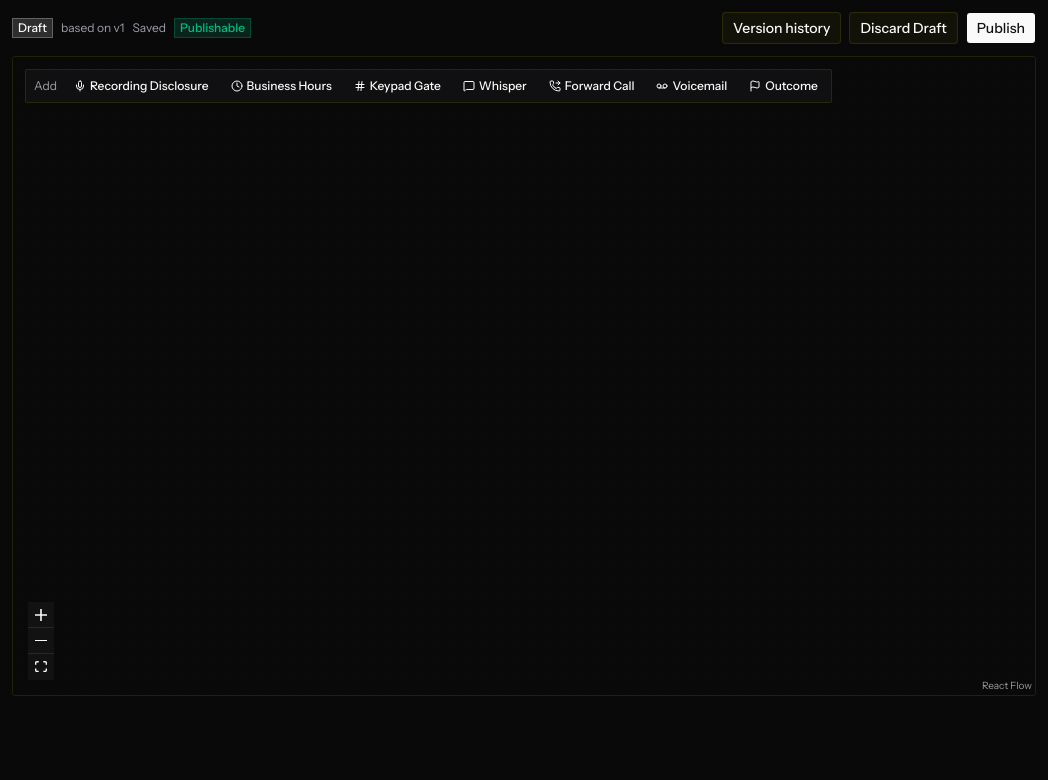
WorkspaceFlowEditor › publishes an Active draft
Click the button "Publish": (1001, 28) [966,12,1036,44]
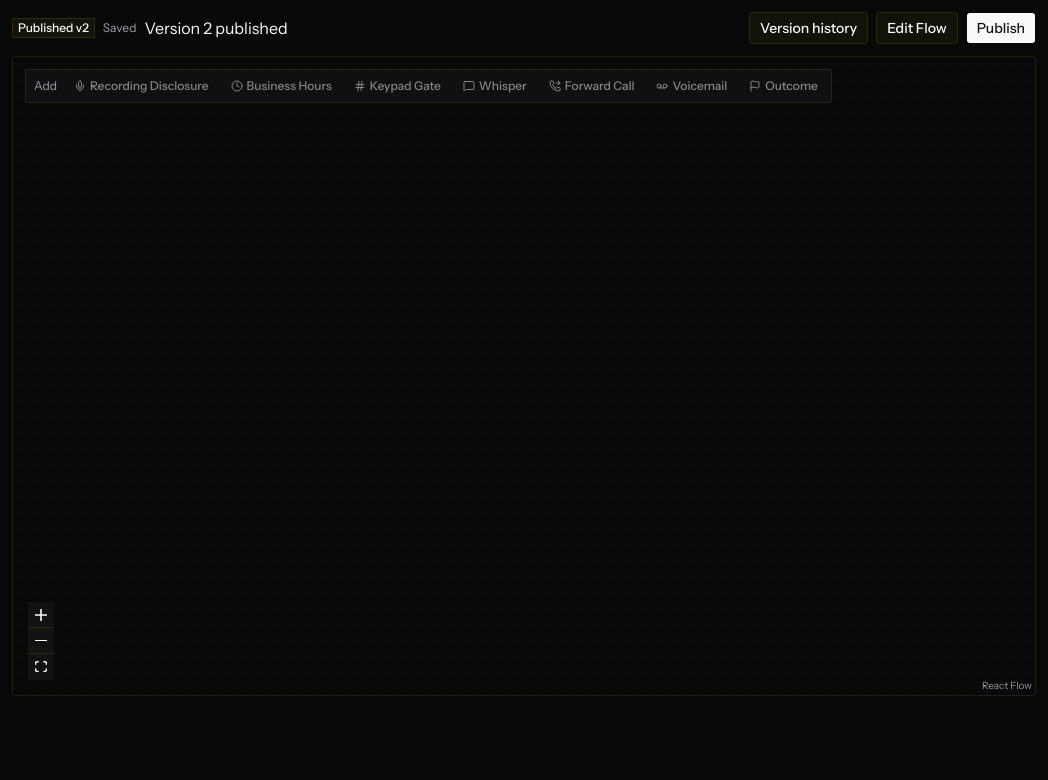
Now the text "Version 2 published" is shown, box [144,16,288,40]
